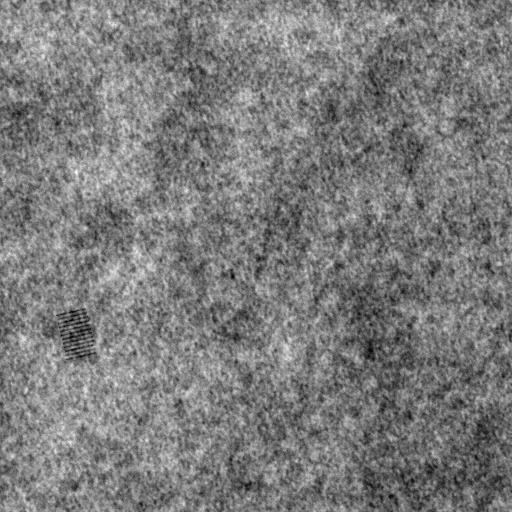DefectTypeB: (57, 308, 98, 358)
